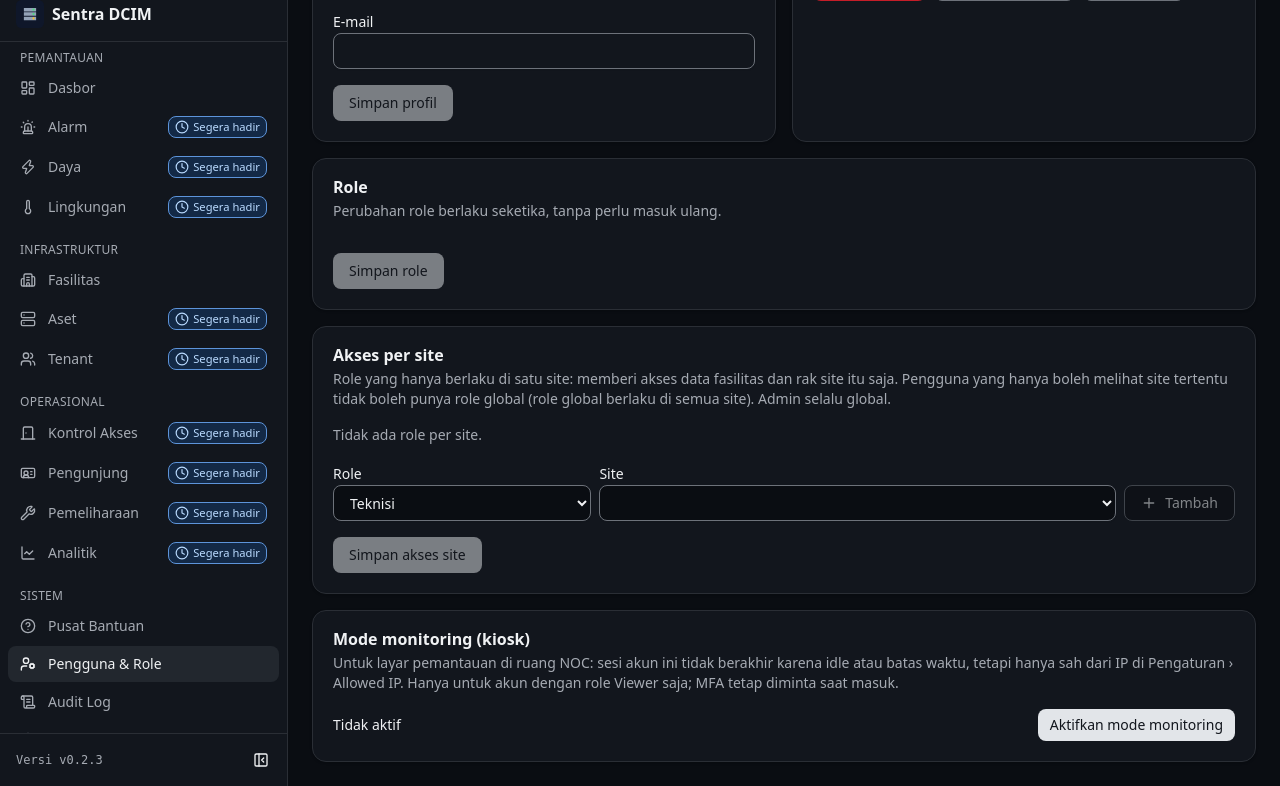
kiosk card and policy settings › explains why kiosk mode is refused without Allowed IP
The width and height of the screenshot is (1280, 786).
(page scrolled)
Click the button with test id "kiosk-toggle" at (1136, 725), box x1=1038 y1=709 x2=1235 y2=741
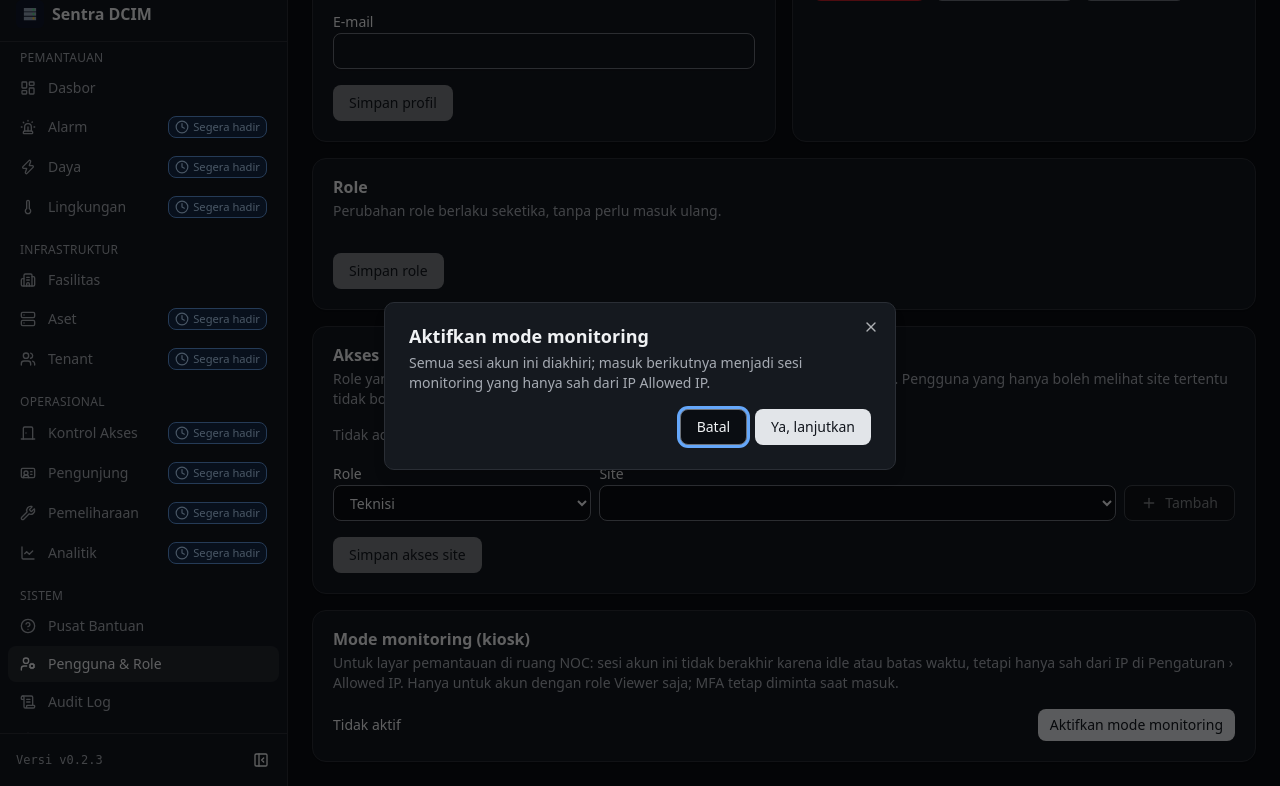
Click the button with test id "confirm" at (813, 427), box x1=755 y1=409 x2=871 y2=445
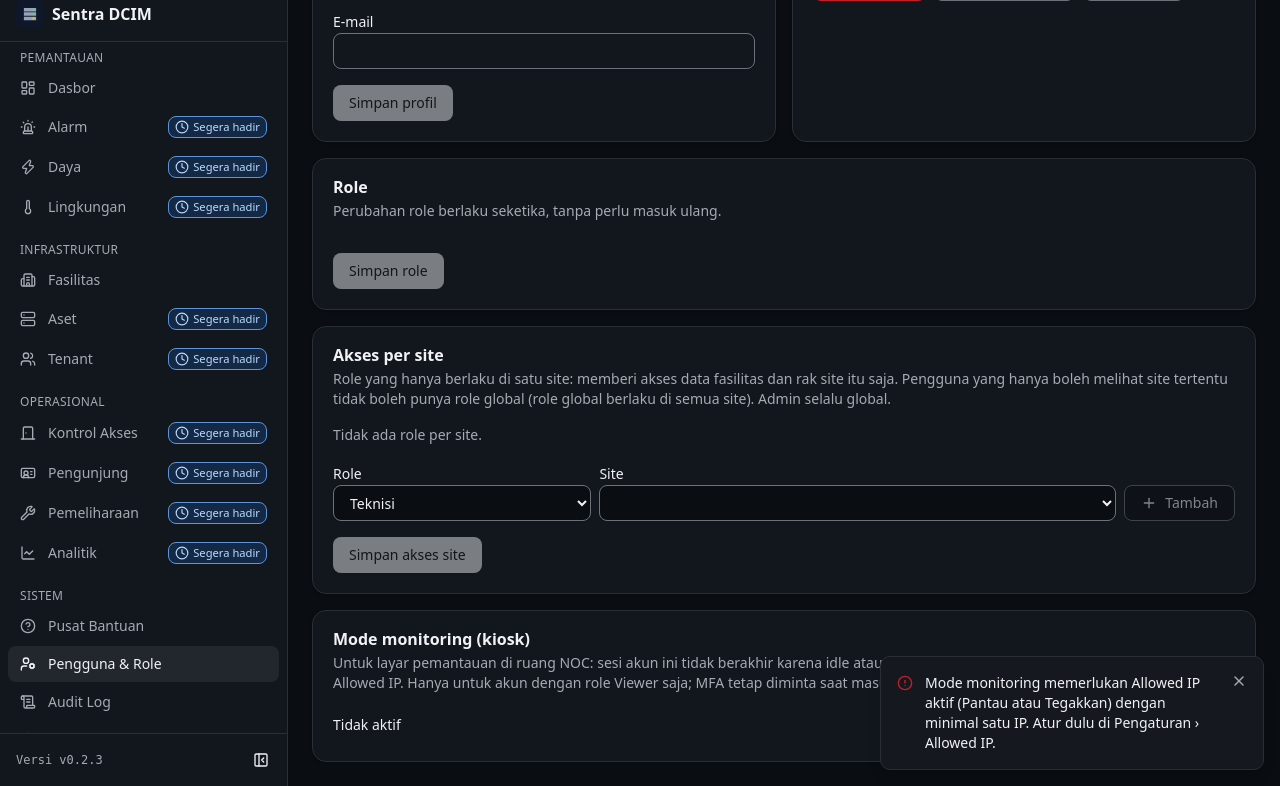
Expected: the text "Mode monitoring memerlukan Allowed IP aktif (Pantau atau Tegakkan) dengan minimal satu IP. Atur dulu di Pengaturan › All" is shown, x1=925 y1=673 x2=1200 y2=752
